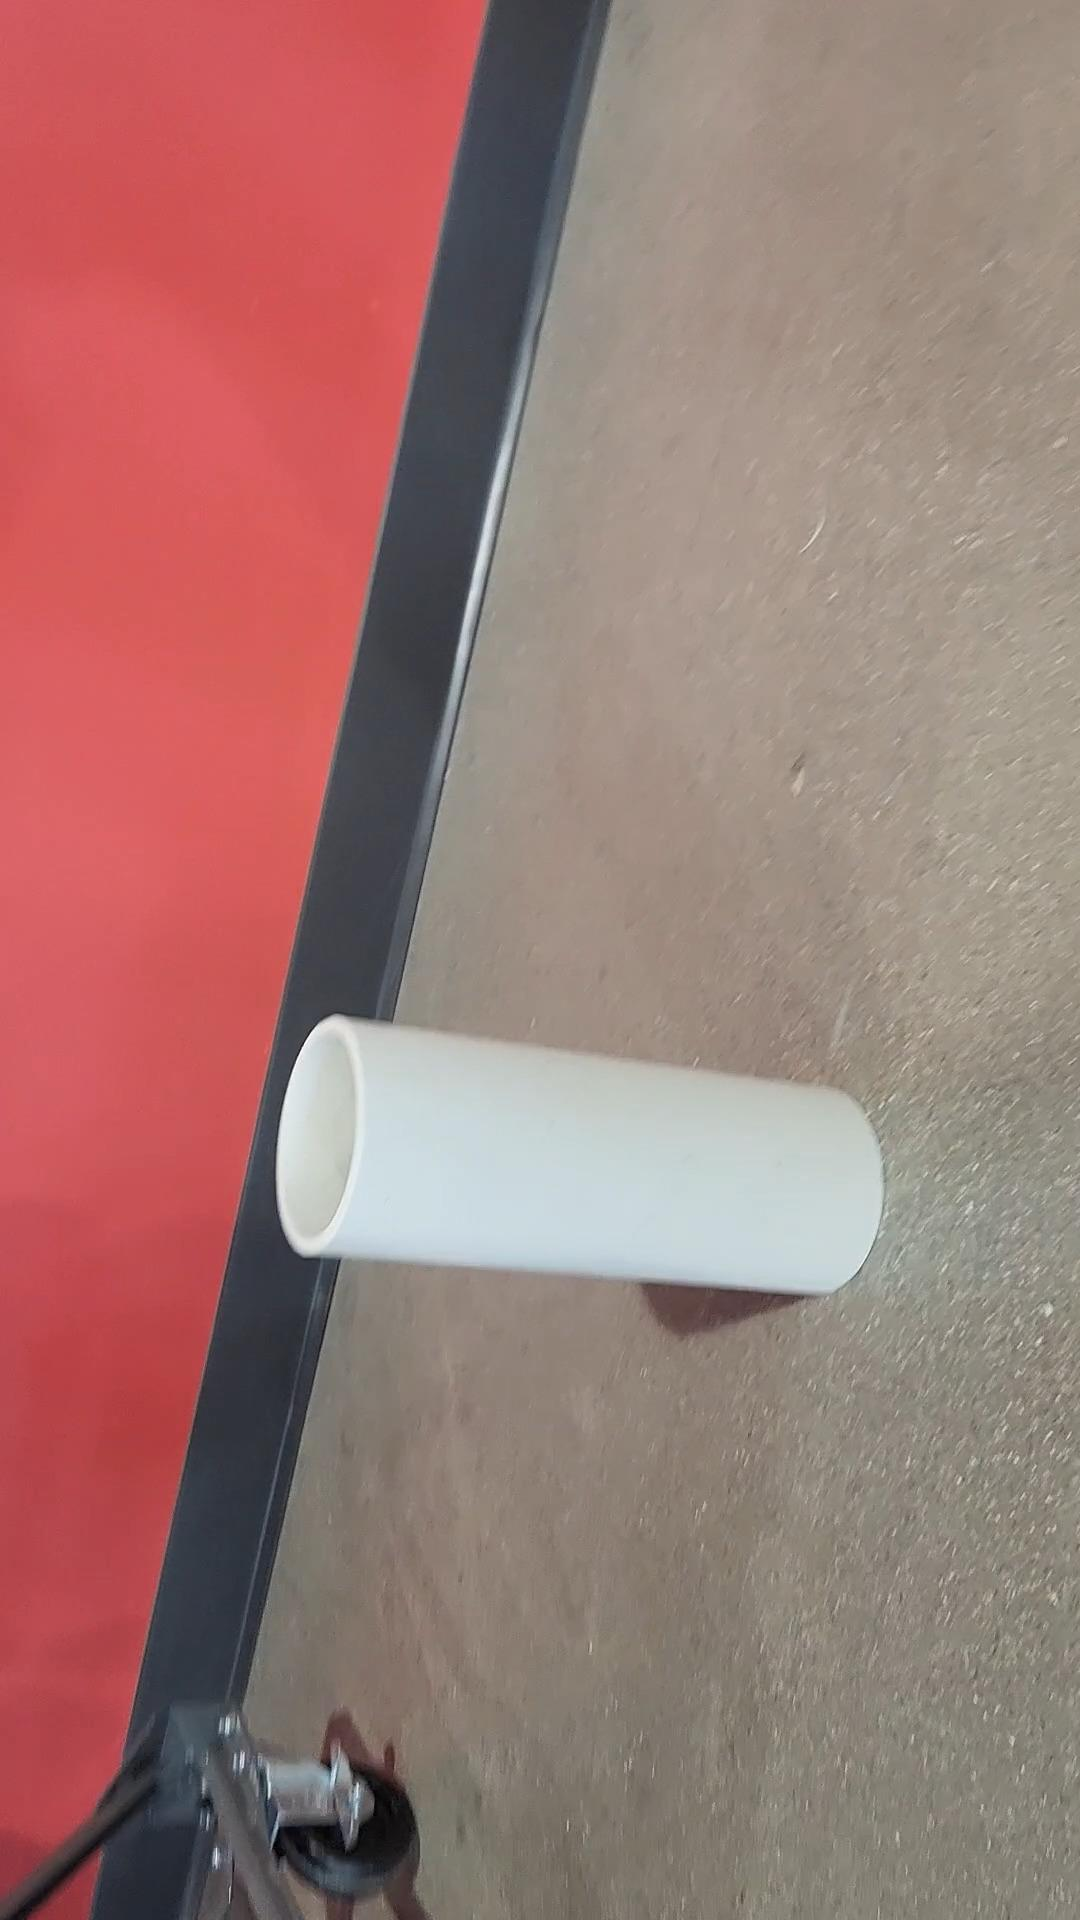coral: (280, 1014, 890, 1300)
